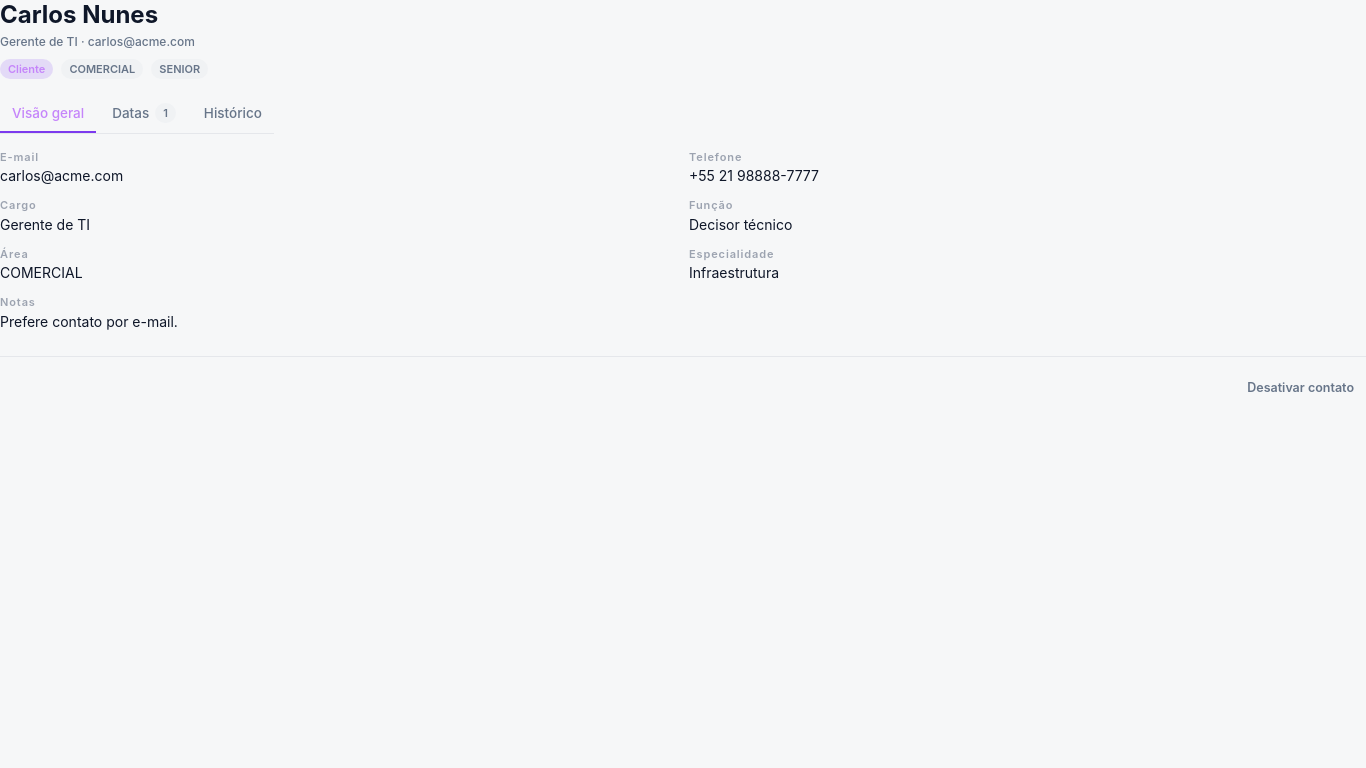
Test: ContactDetailContent — interações (housekeeping) › cancelar no modal de desativação NÃO dispara remove
This screenshot has width=1366, height=768.
Click the button "Desativar contato". click: (1301, 389)
box: 1235,373 -> 1365,405
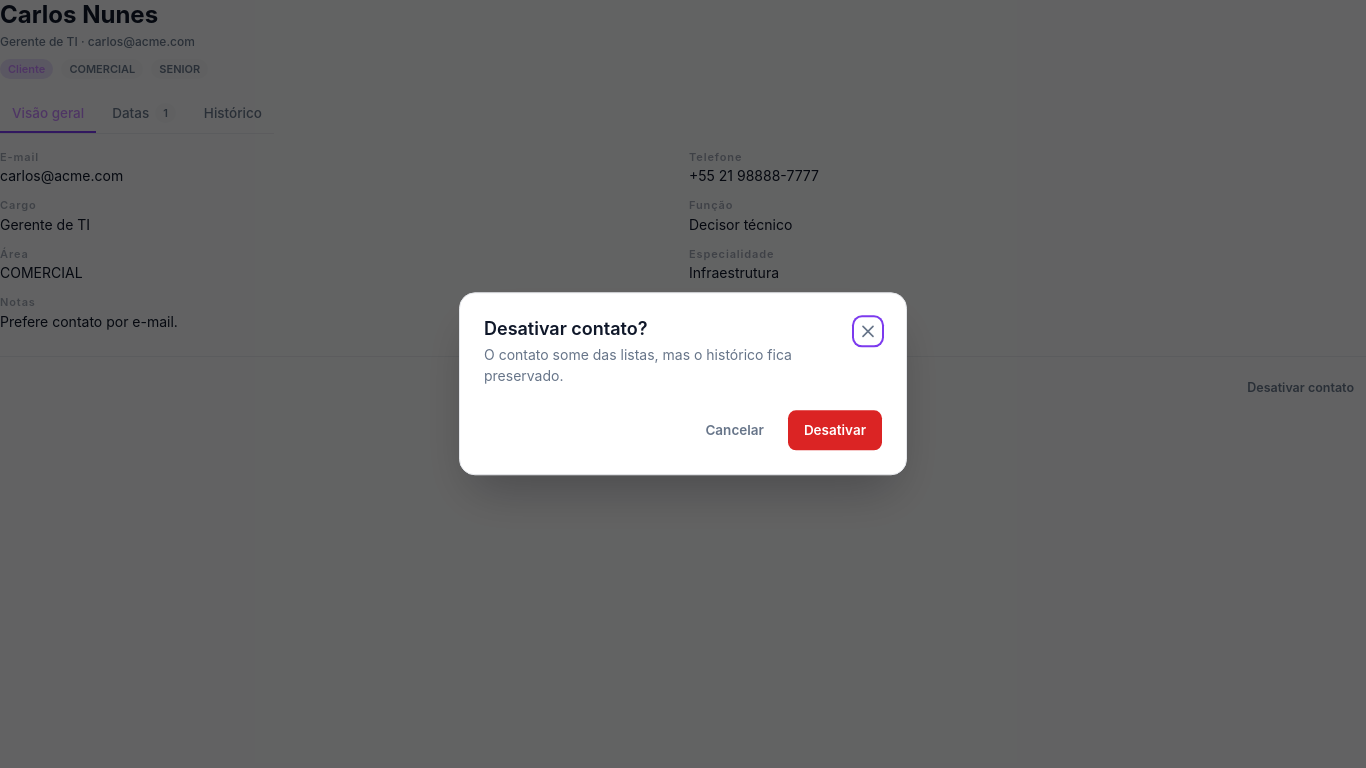
Click the button "Cancelar". click: (735, 431)
box: 689,411 -> 780,451
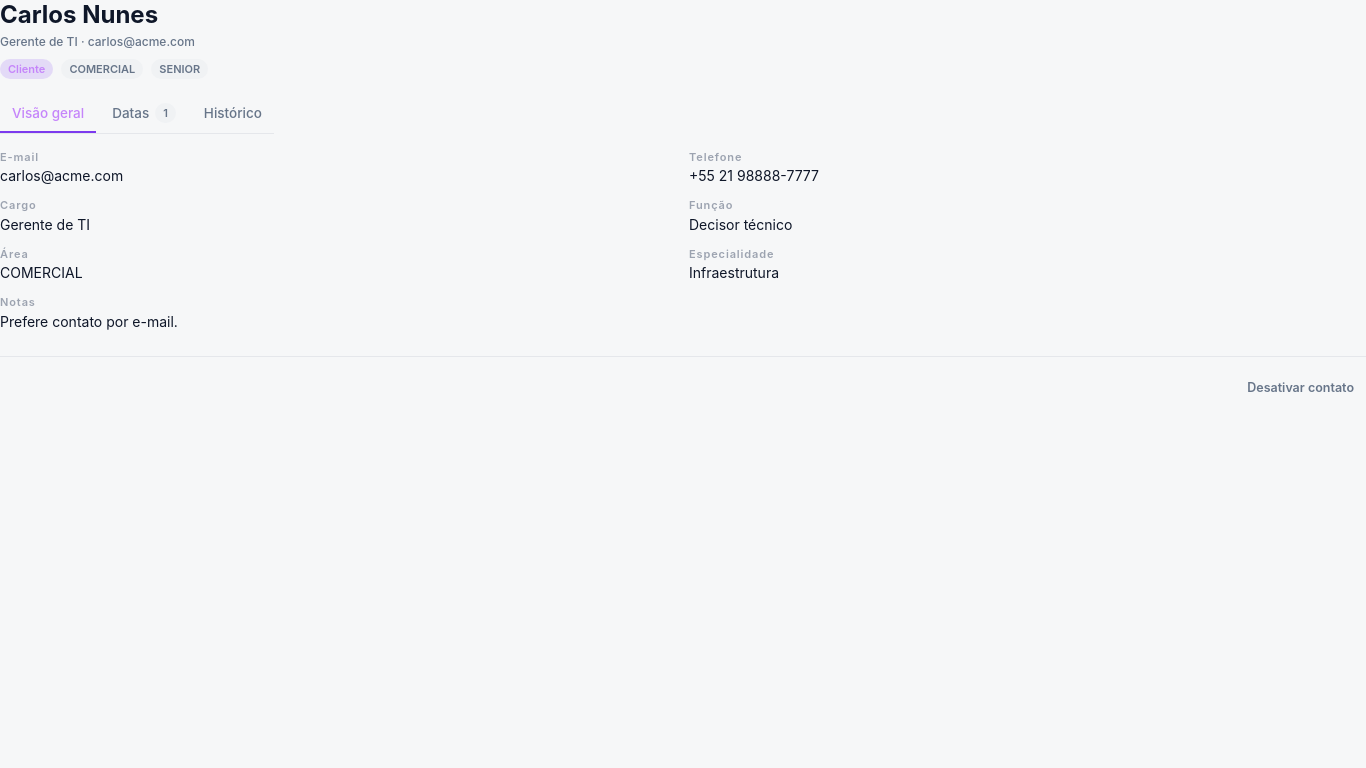
Expected: the heading "Desativar contato?" is gone
